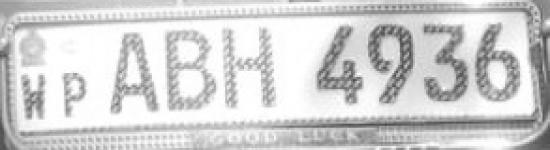3: (419, 15, 470, 106)
4: (304, 20, 365, 110)
6: (473, 16, 528, 106)
9: (366, 18, 421, 108)
A: (104, 27, 161, 121)
B: (162, 28, 218, 115)
H: (218, 23, 282, 115)
P: (55, 67, 95, 122)
W: (14, 71, 51, 123)
